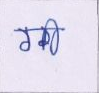i_matra: (47, 17, 60, 56)
